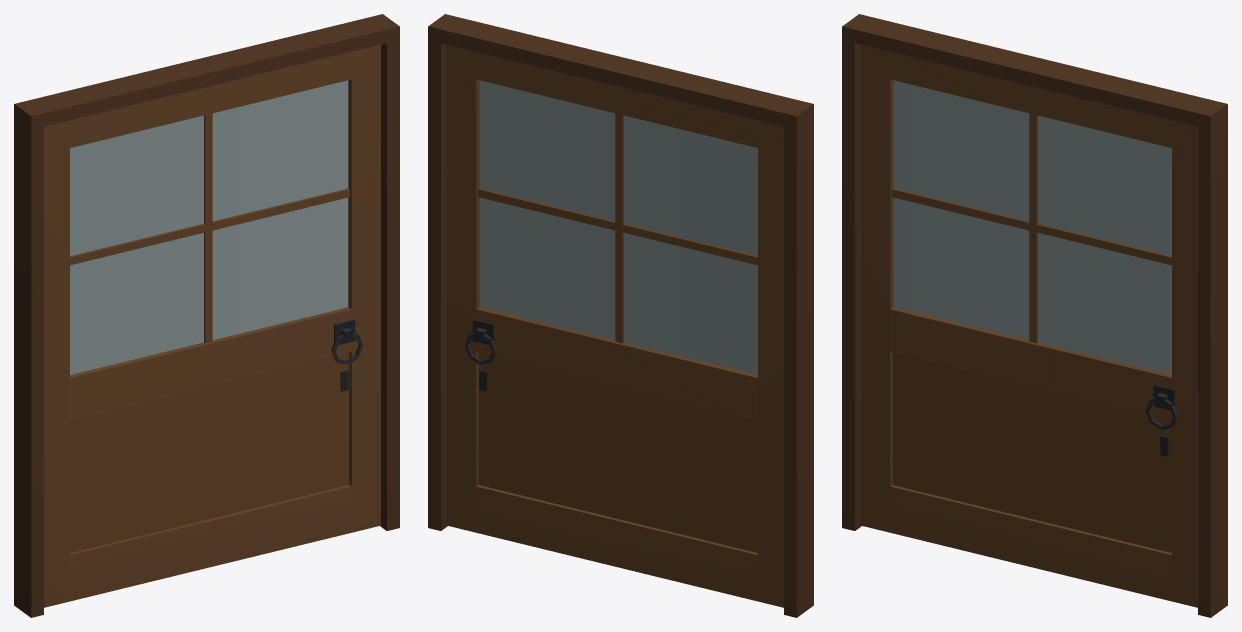
File: door.oak.glazed.glb
3 views of the same model, side by side, from view 1: azimuth 30°, elevation 25°; view 2: azimuth 150°, elevation 25°; view 3: azimuth 330°, elevation 25° (orthographic).
Visible parts, largest first — view 1: door_oak_glazed; view 2: door_oak_glazed; view 3: door_oak_glazed.
Boxes of the visible parts, x1=… form: door_oak_glazed: x1=14, y1=14, x2=399, y2=617; door_oak_glazed: x1=428, y1=14, x2=813, y2=617; door_oak_glazed: x1=842, y1=14, x2=1227, y2=617.
Size of what is drawn, in the model's own units: 2 by 2.6 by 0.16.
